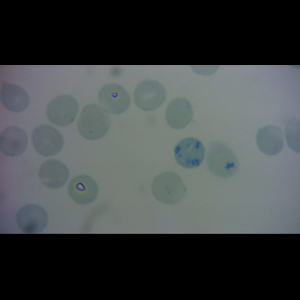aggregate reticulocyte: (173, 136, 206, 170)
erythrocyte: (205, 139, 240, 178), (31, 125, 66, 158), (14, 202, 50, 234), (1, 79, 32, 114), (67, 174, 99, 205), (38, 159, 70, 190)
punctate reticulocyte: (150, 169, 188, 206), (76, 103, 112, 141), (132, 78, 168, 112), (45, 93, 79, 128), (97, 83, 131, 116), (164, 96, 195, 131), (255, 123, 286, 156), (1, 124, 29, 158)
